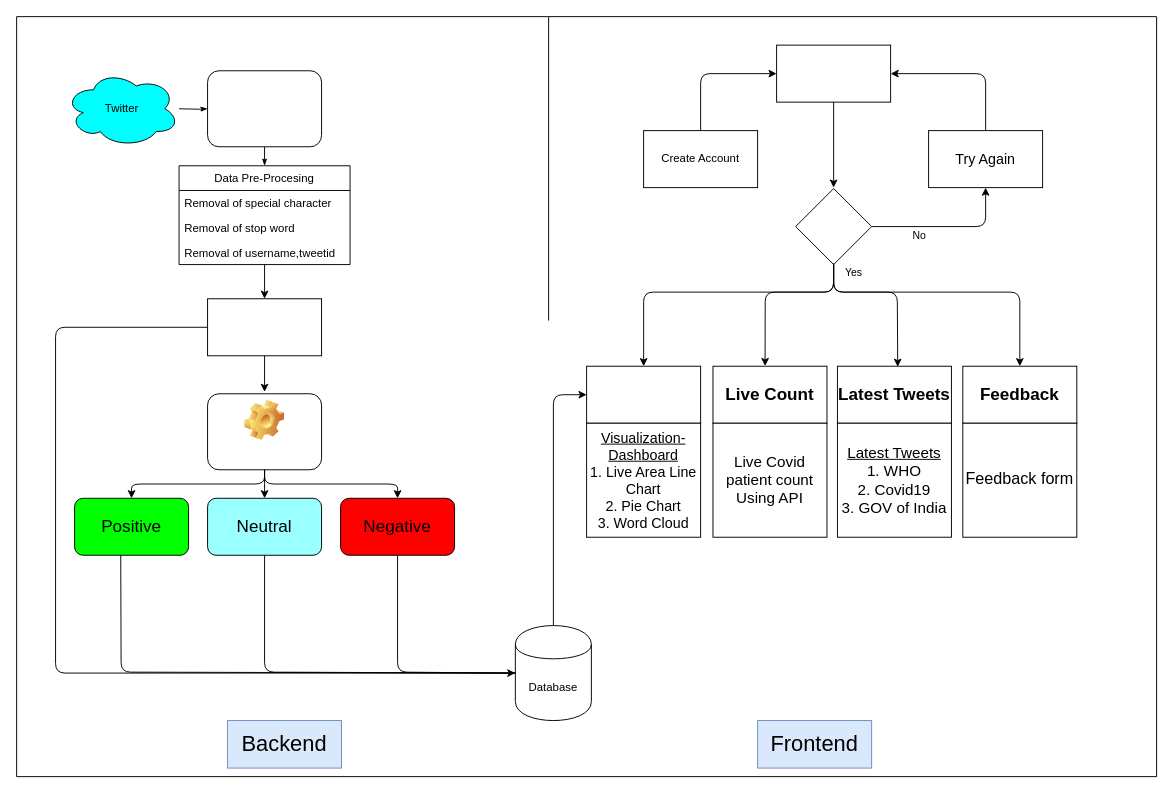
Image size: 1174x794. Some labels were removed from this diagram. Here are the shapes that lost their labels. From the top down, the centre of each, then its label:
At (833,73): "Login".
At (264,108): "Data Gathering using twitter API".
At (833,226): "Login Success".
At (264,327): "Processed Data".
At (643,394): "Dashboard".
At (264,431): "LSTM Model".
